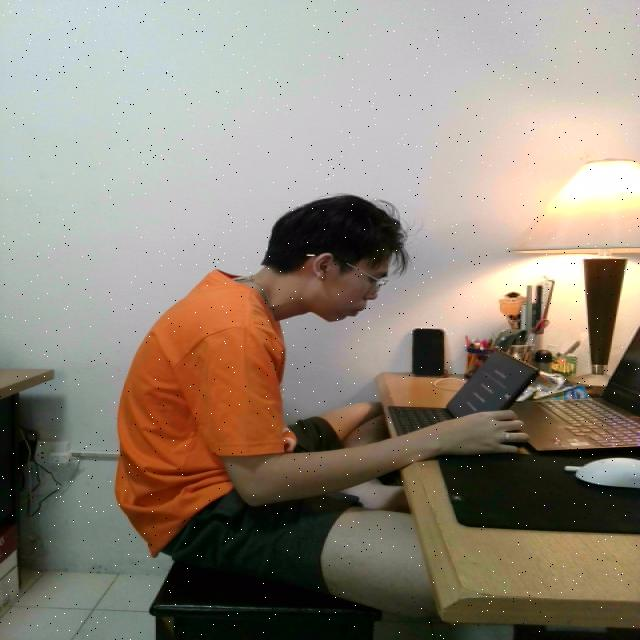Bad: (111, 182, 467, 608)
